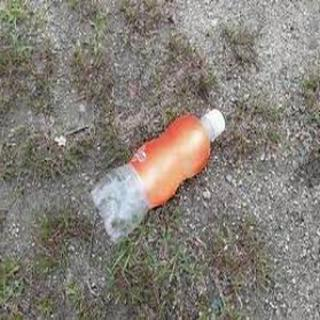Plastic: (91, 103, 226, 243)
